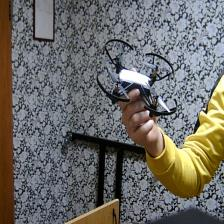drone: (94, 34, 183, 119)
